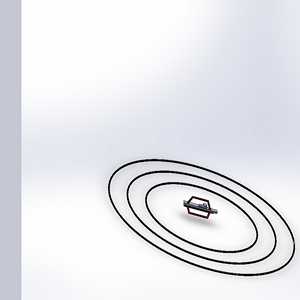circle: (101, 151, 300, 283)
submarine: (176, 192, 220, 233)
